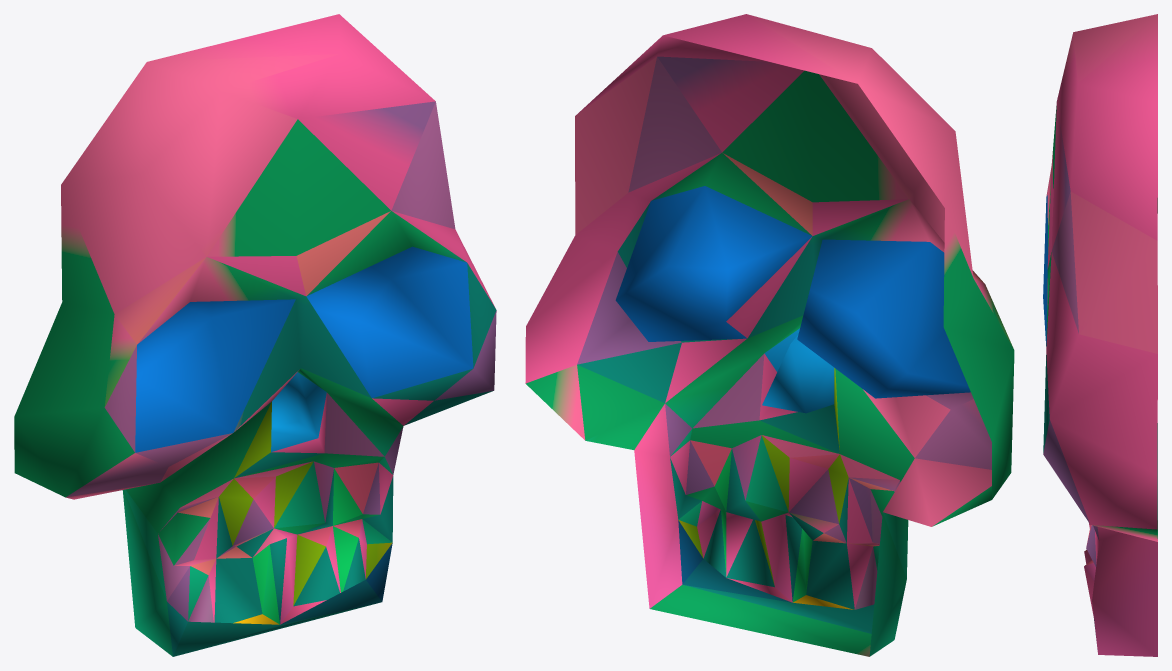
Rendered from HWN20_SkullDeco_DDLM_03.glb.
3 renders of one model, left to right at view 1: azimuth 30°, elevation 25°; view 2: azimuth 150°, elevation 25°; view 3: azimuth 270°, elevation 25°, orthographic. The views are drawn at different scales.
Visible parts, largest first — view 1: HWN20_SkullDeco_DDLM_03; view 2: HWN20_SkullDeco_DDLM_03; view 3: HWN20_SkullDeco_DDLM_03.
Boxes of the visible parts, x1,y1,x2,y2 form: HWN20_SkullDeco_DDLM_03: (14, 14, 496, 656); HWN20_SkullDeco_DDLM_03: (525, 14, 1014, 656); HWN20_SkullDeco_DDLM_03: (1043, 14, 1157, 656).
Size of what is drawn, in the model's own units: 0.2105 by 0.2498 by 0.0473.
Materials: 1 (1 with a texture image).
